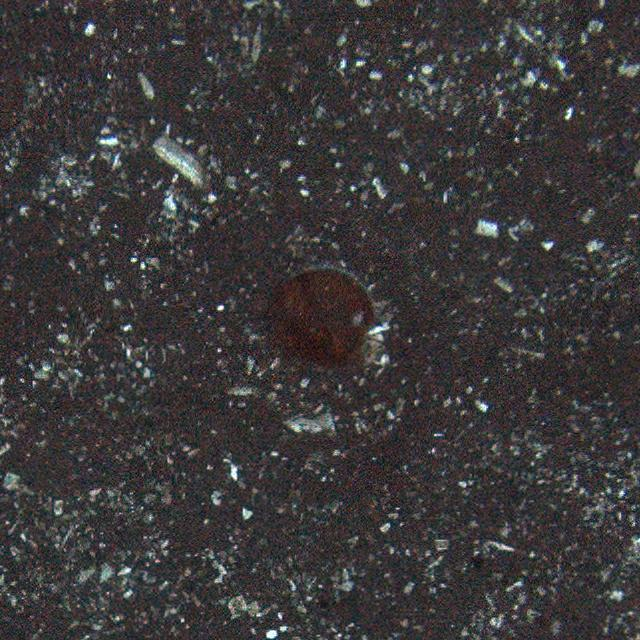scallop: (267, 262, 375, 370)
